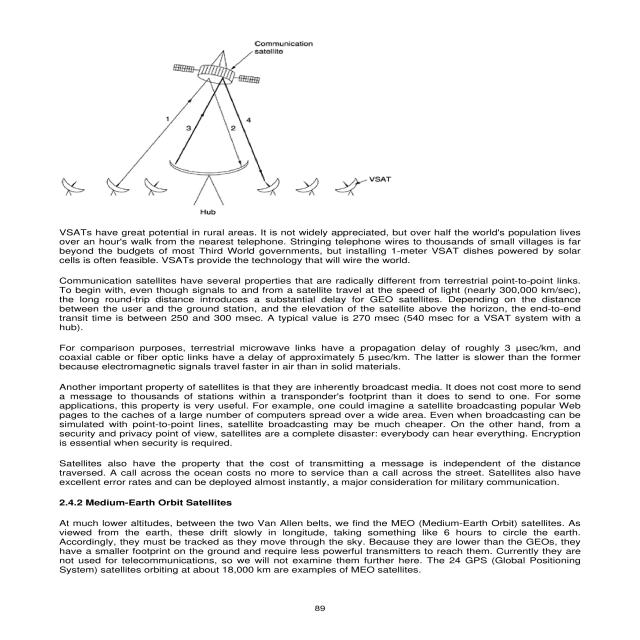diagram: (45, 29, 389, 209)
